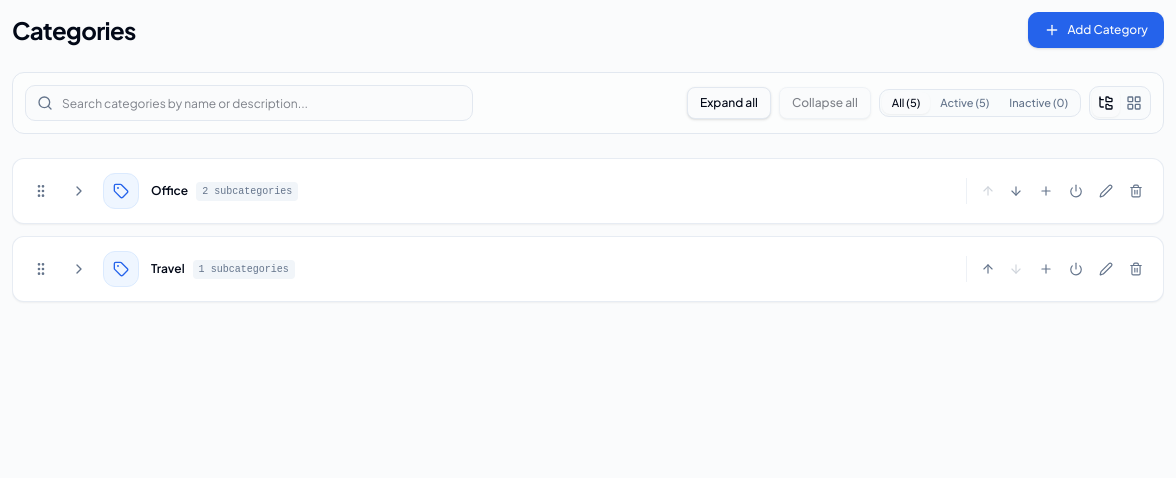
it: category ordering › simplifies the heading, removes summary cards, and renders server order
Expected: the button named "Move Office down" is shown, [1003, 178, 1029, 204]
Click the button "Expand all" at (729, 103), box [687, 87, 771, 119]
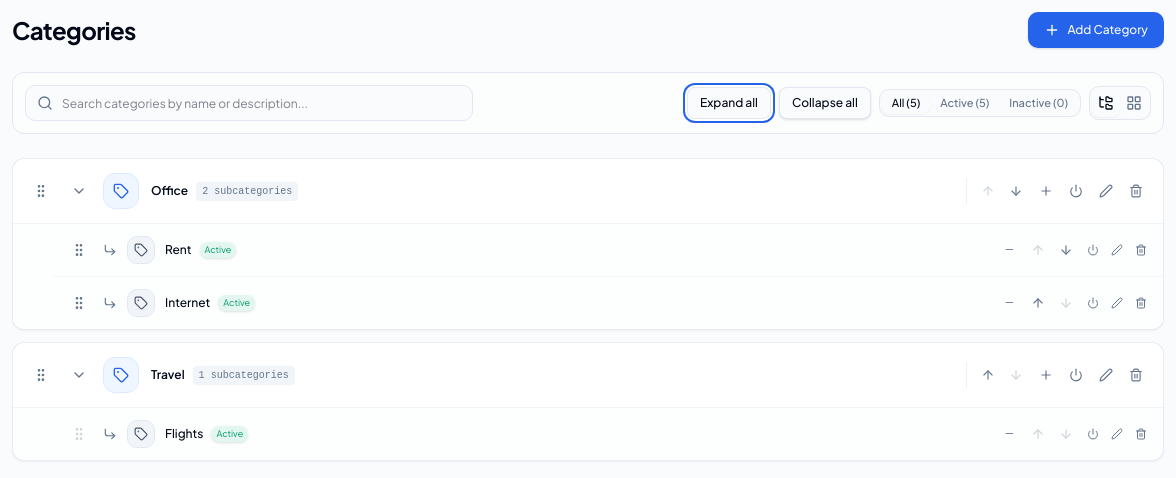
Expected: the heading reads "Categories", [12, 15, 136, 45]
Result: the button named "Move Rent up" is disabled at [1025, 237, 1051, 263]
Result: the button named "Move Internet down" is disabled at [1053, 290, 1079, 316]
